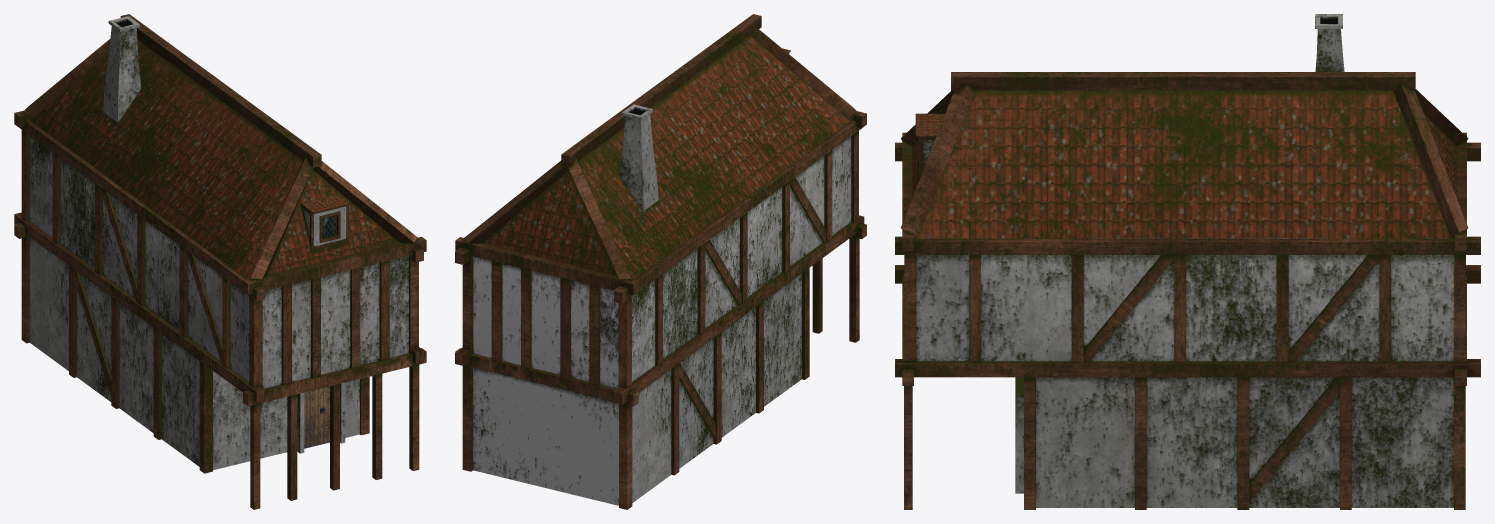
The model's file is HouseB.gltf.
3 views of the same model, side by side, from view 1: azimuth 30°, elevation 25°; view 2: azimuth 150°, elevation 25°; view 3: azimuth 270°, elevation 25° (orthographic). The views are drawn at different scales.
Parts seen in each view (by area): view 1: House2_House2_M_0; view 2: House2_House2_M_0; view 3: House2_House2_M_0.
Boxes of the visible parts, box(x1,y1,x2,y2) form: House2_House2_M_0: box(14, 14, 426, 509); House2_House2_M_0: box(455, 14, 866, 509); House2_House2_M_0: box(895, 14, 1480, 509).
Bounding box in the file's own units: 29.05 × 53.96 × 68.23.
Materials: 1 (1 with a texture image).
